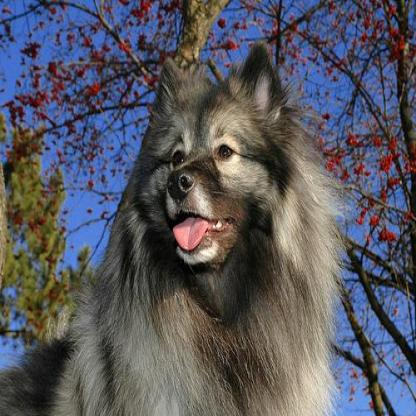keeshond: (0, 44, 349, 412)
